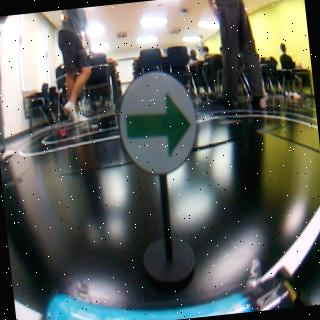right: (114, 66, 199, 176)
